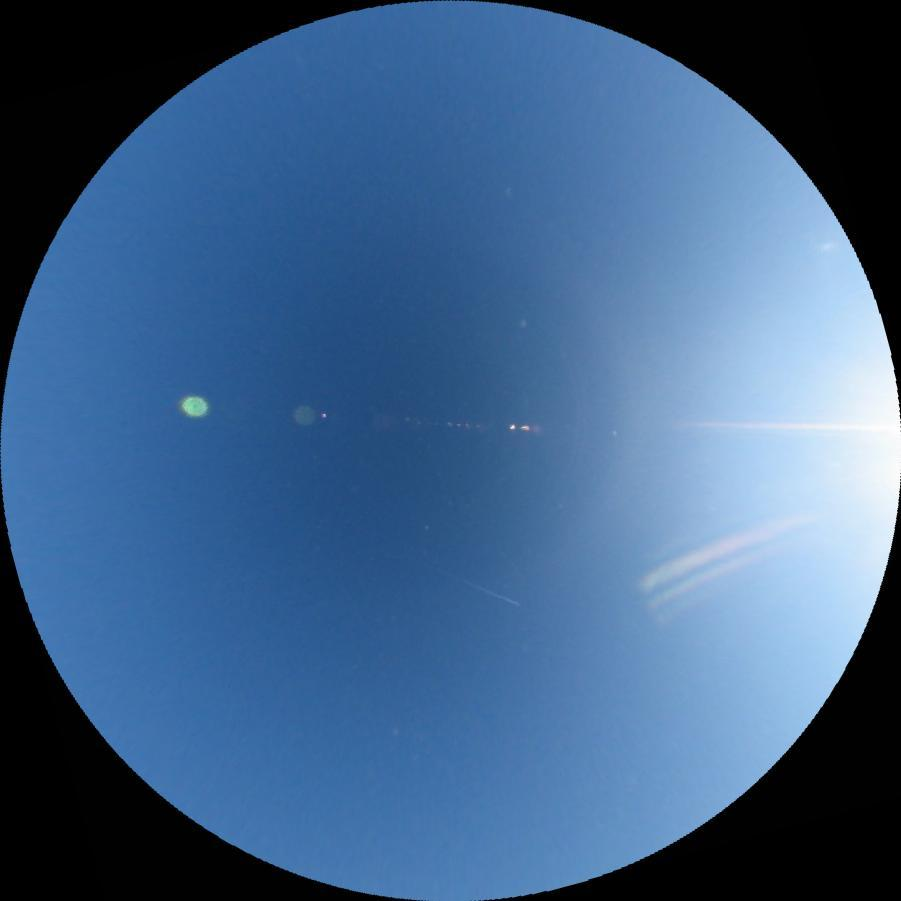contrail young: (424, 561, 520, 608)
parasite: (637, 510, 803, 591), (694, 421, 884, 432)
